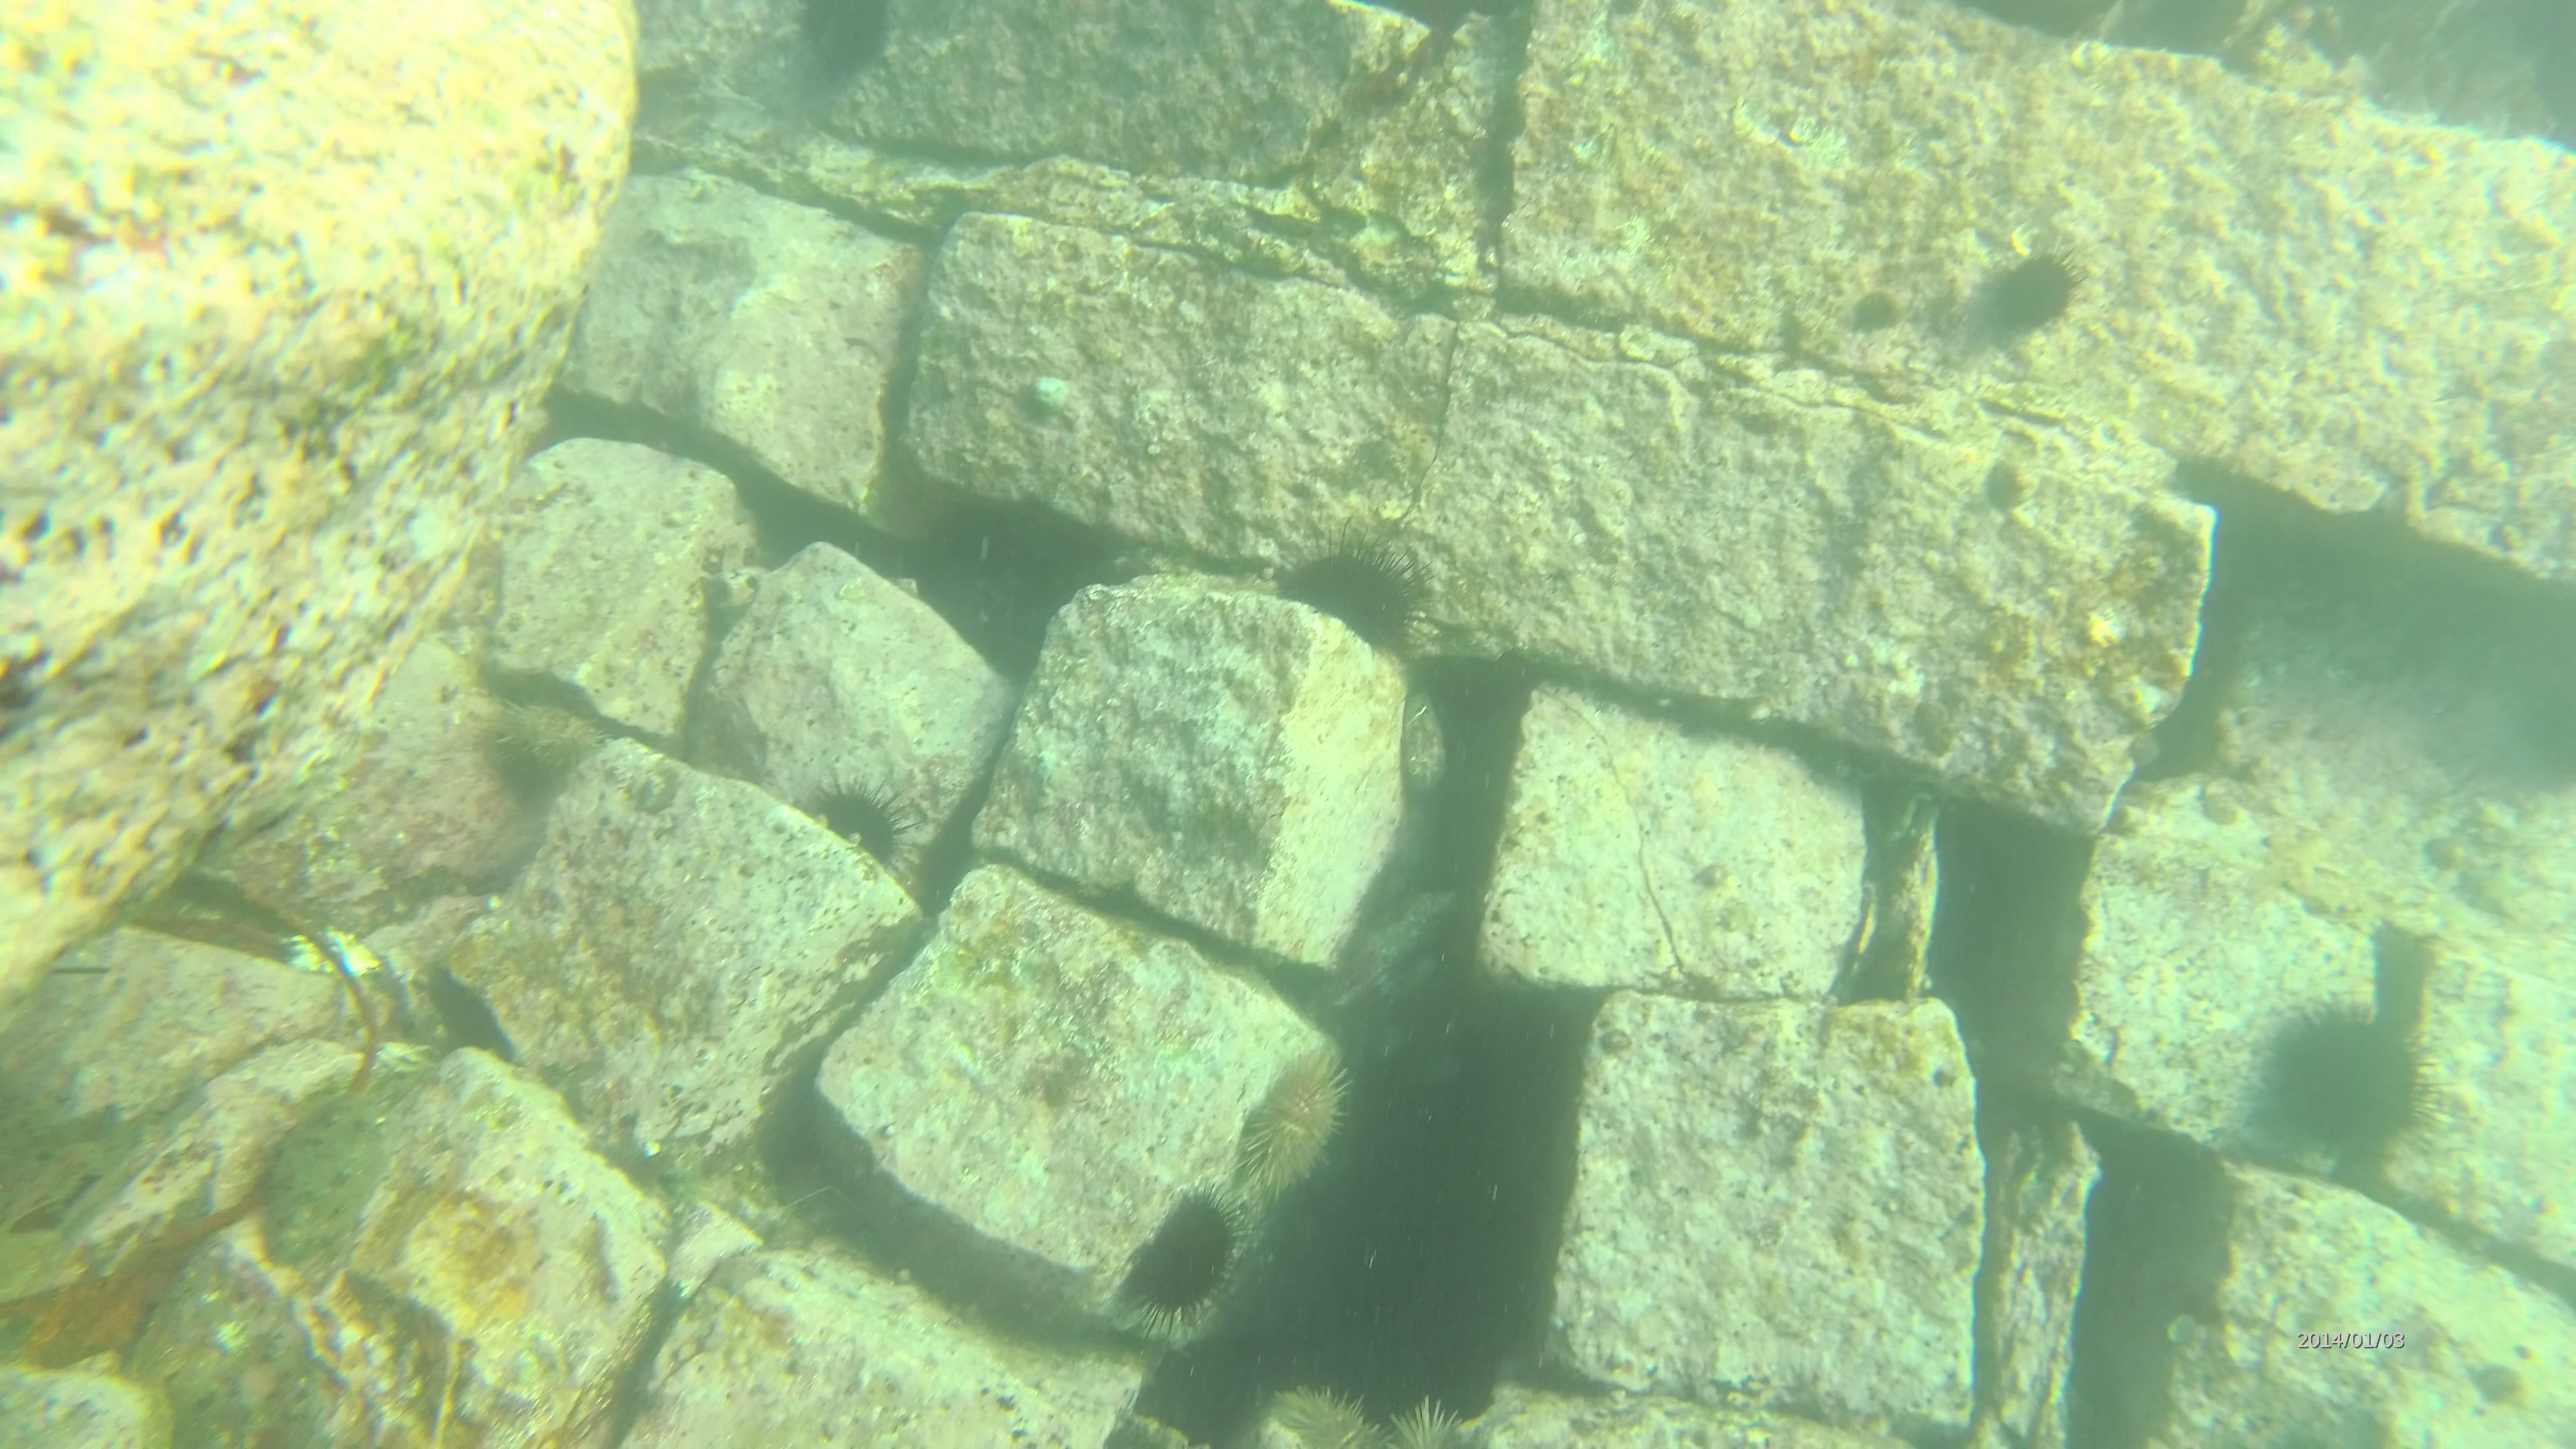echinus: (2265, 989, 2447, 1171), (1281, 518, 1440, 667), (1109, 1180, 1251, 1341), (1235, 1053, 1352, 1205), (800, 764, 927, 883), (478, 695, 587, 789), (1992, 239, 2084, 341), (1260, 1384, 1392, 1449), (798, 0, 897, 81)
